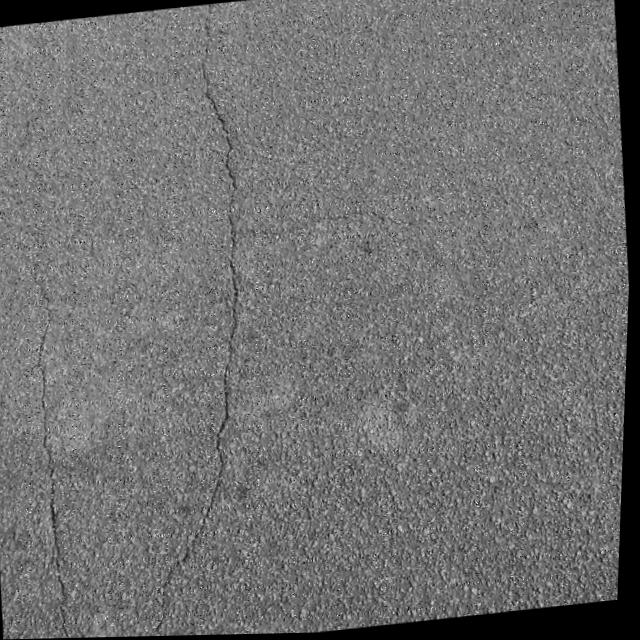Crack: (97, 1, 294, 637), (19, 274, 94, 639), (239, 187, 494, 263)
